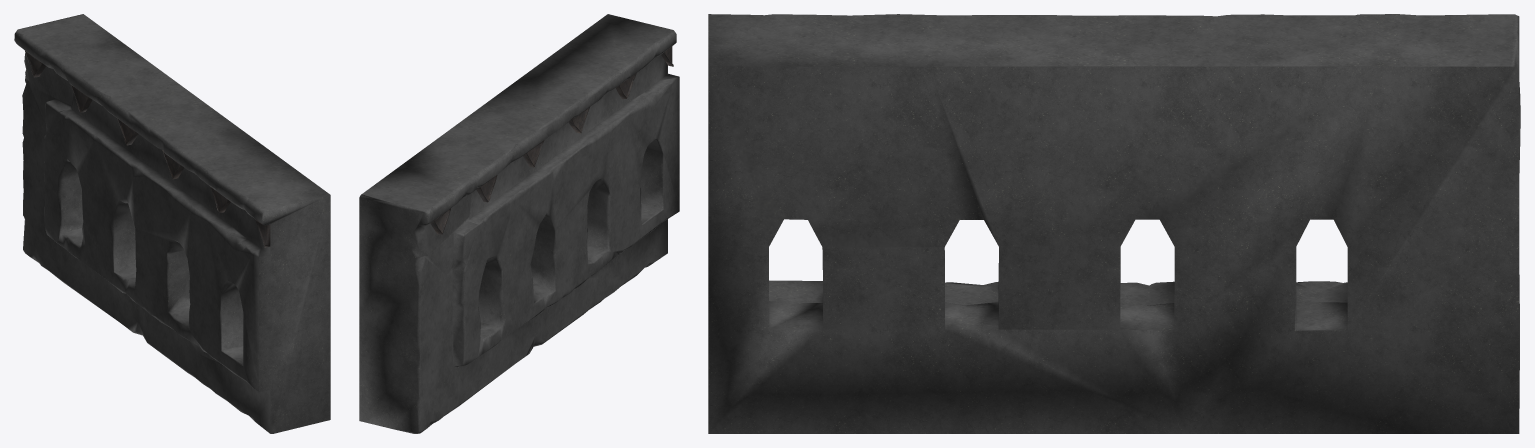
File: SM_BuildingModule3.fbx
The picture shows the model from 3 angles, left to right: view 1: azimuth 30°, elevation 25°; view 2: azimuth 150°, elevation 25°; view 3: azimuth 270°, elevation 25°; orthographic projection. The views are drawn at different scales.
Visible parts, largest first — view 1: SM_BuildingModule3_LOD0; view 2: SM_BuildingModule3_LOD0; view 3: SM_BuildingModule3_LOD0.
Part boxes in pixels (bbox=[...]): SM_BuildingModule3_LOD0: bbox=[14, 14, 330, 433]; SM_BuildingModule3_LOD0: bbox=[359, 14, 679, 433]; SM_BuildingModule3_LOD0: bbox=[708, 14, 1520, 433].
Bounding box in the file's own units: 50.13 × 301 × 150.
Materials: 2 (2 with a texture image).
